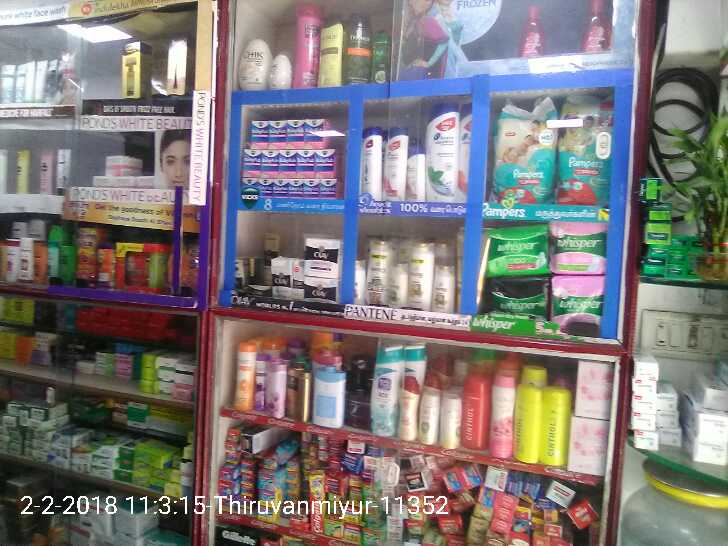vicks: (240, 115, 343, 197)
